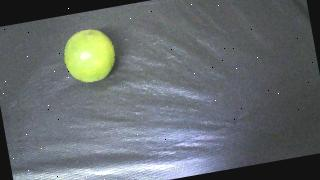LOCAL: (61, 26, 119, 86)
